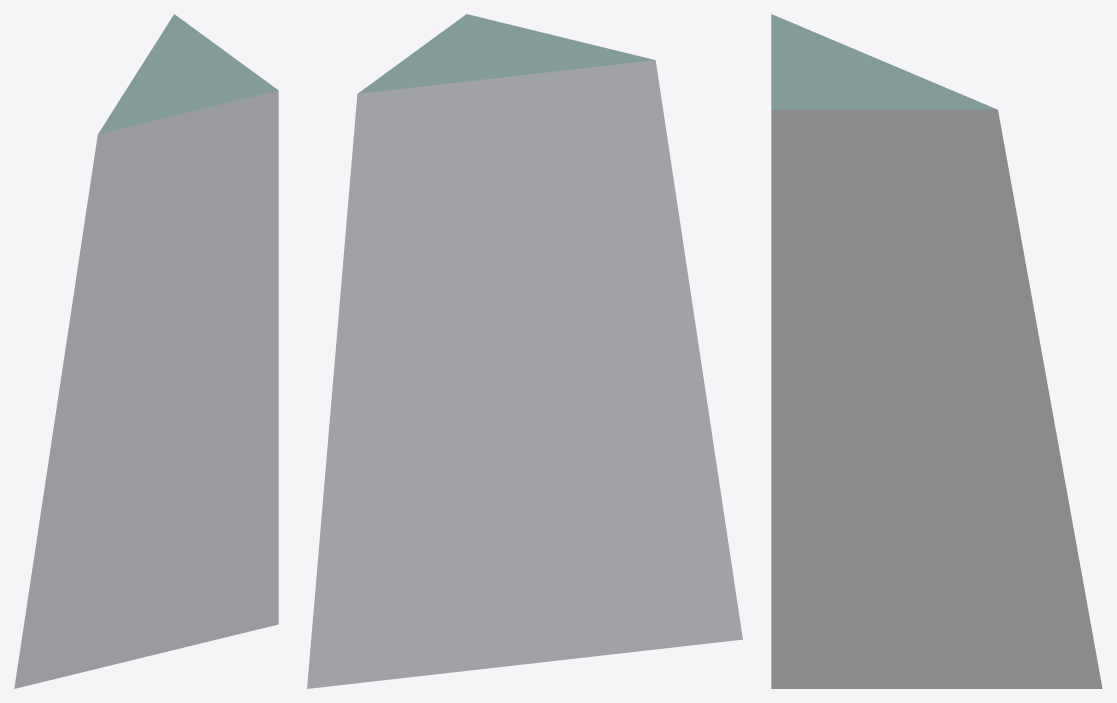
The model's file is naturePack_100.gltf.
3 views of the same model, side by side, from view 1: azimuth 30°, elevation 25°; view 2: azimuth 150°, elevation 25°; view 3: azimuth 270°, elevation 25° (orthographic). The views are drawn at different scales.
Visible parts, largest first — view 1: Mesh1 Grey_Cliff_Bottom_Corner_Green_Top Model; view 2: Mesh1 Grey_Cliff_Bottom_Corner_Green_Top Model; view 3: Mesh1 Grey_Cliff_Bottom_Corner_Green_Top Model.
Part boxes in pixels (box(x1,y1,x2,y2)): Mesh1 Grey_Cliff_Bottom_Corner_Green_Top Model: box(14, 14, 278, 688); Mesh1 Grey_Cliff_Bottom_Corner_Green_Top Model: box(307, 14, 742, 688); Mesh1 Grey_Cliff_Bottom_Corner_Green_Top Model: box(771, 14, 1102, 688).
Size of the model in its own units: 1.14 by 2.2 by 1.14.
